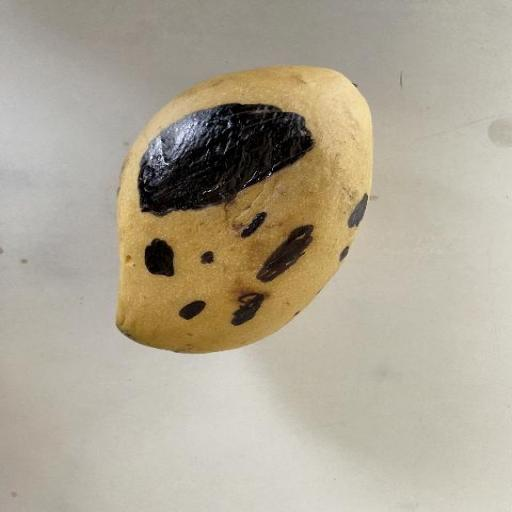mango-overripe: (96, 40, 407, 384)
